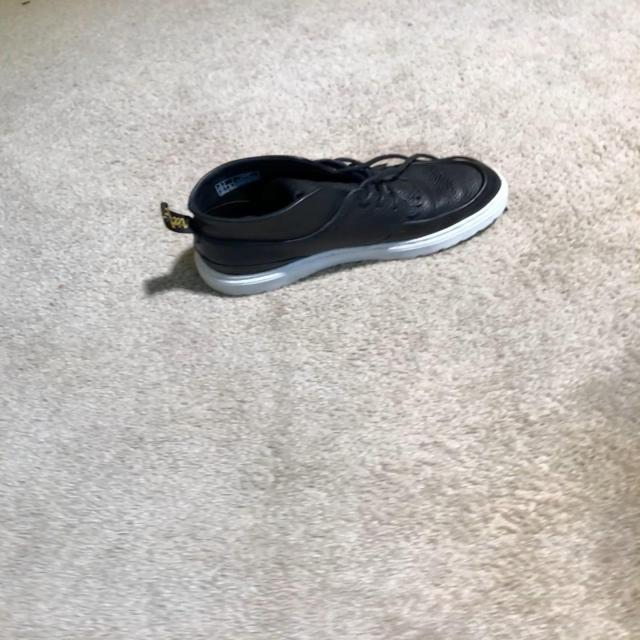shoe: (162, 154, 510, 300)
